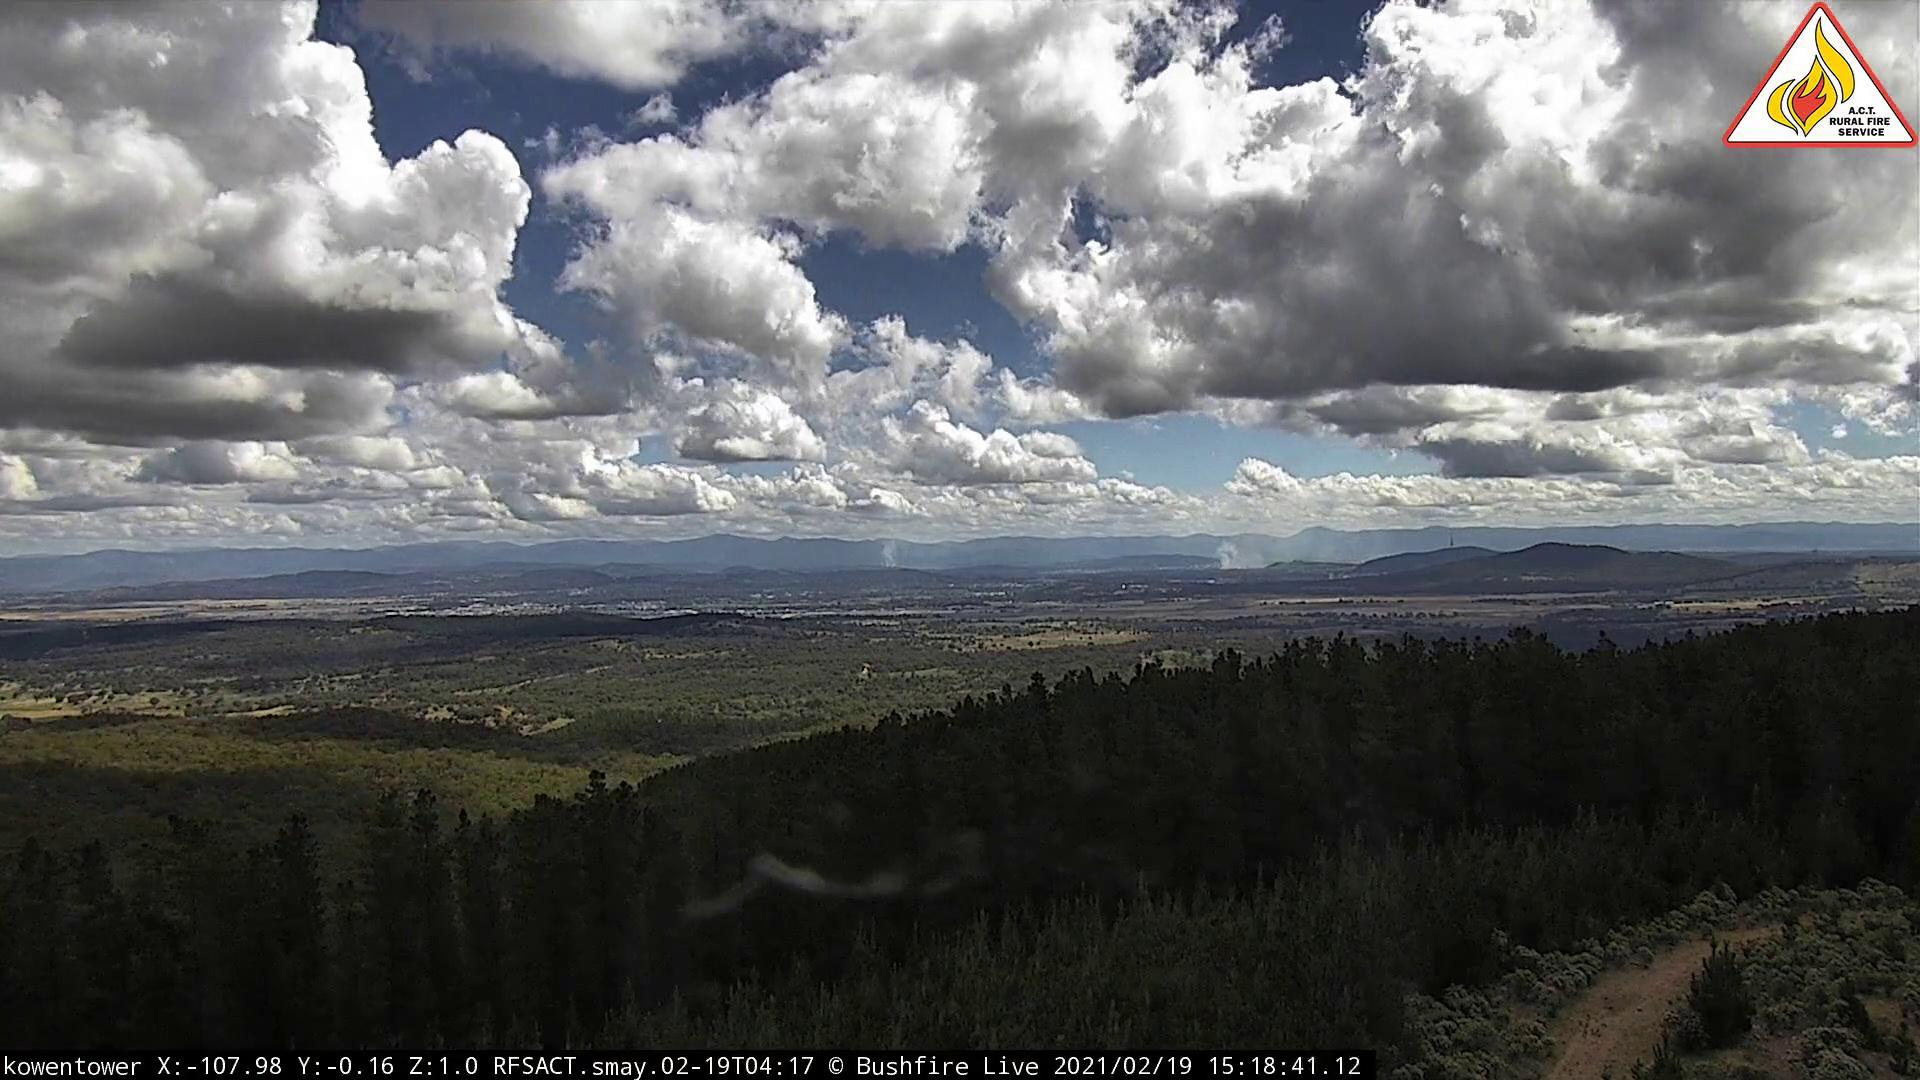Smoke: (1215, 534, 1274, 574), (884, 539, 910, 574)
